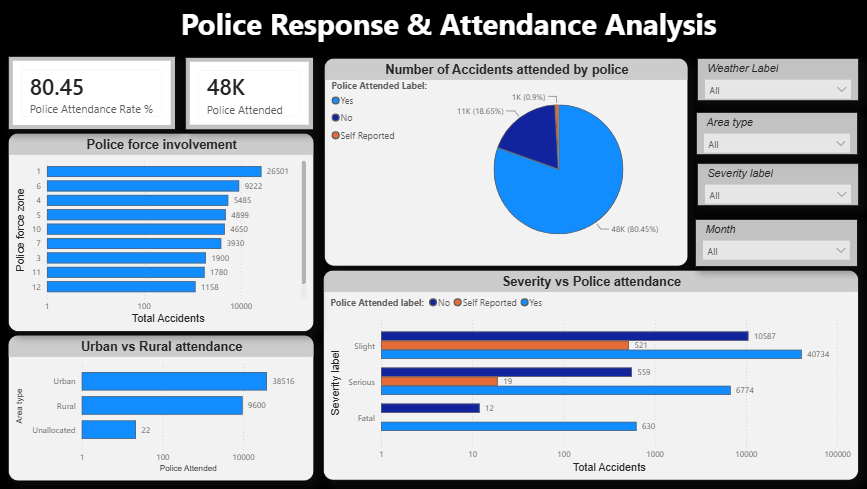

What the dashboard file says about the page in this screenshot:
{"tool":"powerbi","page":{"name":"Police Response","canvas":[1280,720],"ordinal":3},"visuals":[{"type":"pieChart","title":"Number of Accidents attended by police","fields":{"Category":["Accident Data Analysis.Police_Attended_Label"],"Y":["Accident Data Analysis.Total Accidents"]},"box":[478.3,86.7,533.3,305],"z":0},{"type":"clusteredBarChart","title":"Urban vs Rural attendance","fields":{"Y":["Accident Data Analysis.Police Attended"],"Category":["Accident Data Analysis.Area_type"]},"box":[16.1,491.7,447.8,213.7],"z":1000},{"type":"clusteredBarChart","title":"Severity vs Police attendance","fields":{"Category":["Accident Data Analysis.severity_label"],"Y":["Accident Data Analysis.Total Accidents"],"Series":["Accident Data Analysis.Police_Attended_Label"]},"box":[477.6,395.9,783.7,308.2],"z":2000},{"type":"clusteredBarChart","title":"Police force involvement ","fields":{"Category":["Accident Data Analysis.Police_Force"],"Y":["Accident Data Analysis.Total Accidents"]},"box":[16.1,196.1,447.8,291.2],"z":3000},{"type":"cardVisual","fields":{"Data":["Accident Data Analysis.Police Attended"]},"box":[275,85,188.3,106.7],"z":4000},{"type":"slicer","fields":{"Values":["Accident Data Analysis.severity_label"]},"box":[1025,240,236.7,63.3],"z":5000},{"type":"slicer","fields":{"Values":["Accident Data Analysis.Area_type"]},"box":[1023.3,165,236.7,63.3],"z":6000},{"type":"slicer","fields":{"Values":["Accident Data Analysis.Weather_Label"]},"box":[1025,86.7,236.7,63.3],"z":7000},{"type":"slicer","fields":{"Values":["Accident Data Analysis.Date.Variation.Date Hierarchy.Month"]},"box":[1021.7,321.7,238.3,70],"z":8000},{"type":"cardVisual","fields":{"Data":["Accident Data Analysis.Police Attendance Rate"]},"box":[16.7,83.3,245,108.3],"z":9000},{"type":"textbox","box":[261.7,0,801.7,75],"z":10000}]}

Visuals, with their boxes in screenshot pixels (x1, y1, x2, y2), scaled from the page's 1280x720 canvas onto the 867x489 screenshot:
"Number of Accidents attended by police" pieChart: box(324, 59, 685, 266)
"Urban vs Rural attendance" clusteredBarChart: box(11, 334, 314, 479)
"Severity vs Police attendance" clusteredBarChart: box(323, 269, 854, 478)
"Police force involvement " clusteredBarChart: box(11, 133, 314, 331)
cardVisual - Accident Data Analysis.Police Attended: box(186, 58, 314, 130)
slicer - Accident Data Analysis.severity_label: box(694, 163, 855, 206)
slicer - Accident Data Analysis.Area_type: box(693, 112, 853, 155)
slicer - Accident Data Analysis.Weather_Label: box(694, 59, 855, 102)
slicer - Accident Data Analysis.Date.Variation.Date Hierarchy.Month: box(692, 218, 853, 266)
cardVisual - Accident Data Analysis.Police Attendance Rate: box(11, 57, 177, 130)
textbox: box(177, 0, 720, 51)
